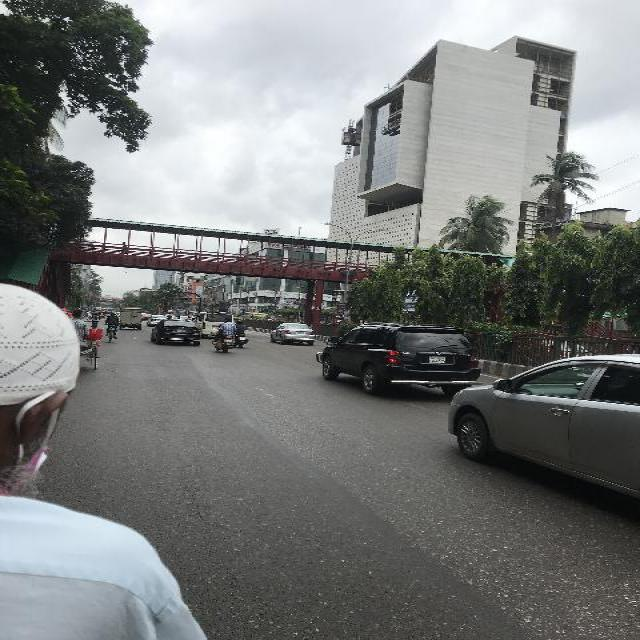bike: (104, 313, 120, 344), (211, 335, 234, 354), (233, 333, 249, 350), (91, 314, 99, 331)
vehicle: (316, 322, 484, 397), (152, 319, 202, 346), (270, 323, 316, 346), (200, 313, 234, 335), (119, 307, 143, 332), (147, 315, 162, 327), (96, 312, 106, 323), (176, 310, 186, 317), (189, 311, 200, 317), (143, 315, 151, 322)
